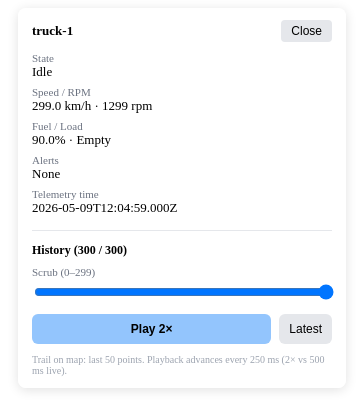
it: DrillDownPanel history scrubber › shows telemetry at scrub index 150 when slider moves to 150 (300 samples)
Set the slider to "150" at (184, 292), box left=34, top=284, right=334, bottom=300
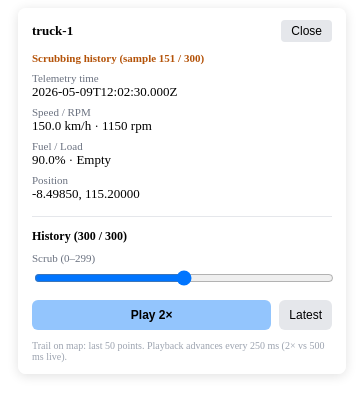
Now the text "Scrubbing history (sample 151 / 300)" is shown, box left=32, top=52, right=204, bottom=64
